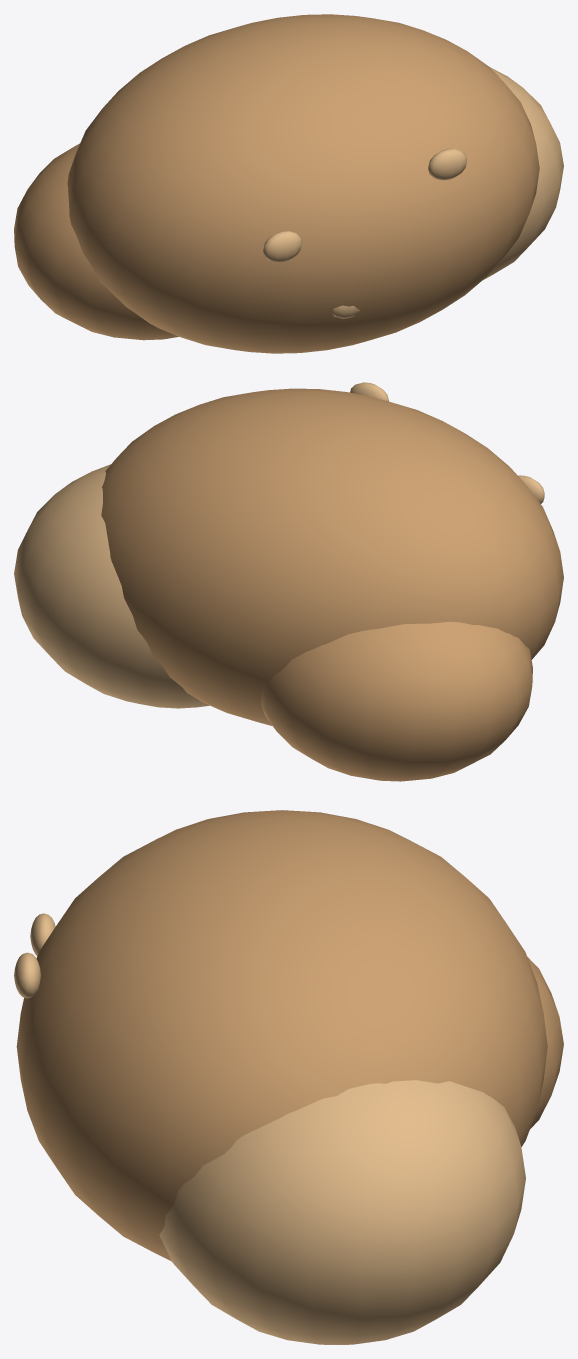
The model's file is potato.glb.
3 views of the same model, one above another, from view 1: azimuth 30°, elevation 25°; view 2: azimuth 150°, elevation 25°; view 3: azimuth 270°, elevation 25° (orthographic). The views are drawn at different scales.
Parts seen in each view (by area): view 1: Potato | main tuber.001, Potato | rear tuber.001, Potato | side tuber.001, Potato | tiny eye.004, Potato | tiny eye.006; view 2: Potato | main tuber.001, Potato | rear tuber.001, Potato | side tuber.001; view 3: Potato | main tuber.001, Potato | side tuber.001, Potato | rear tuber.001, Potato | tiny eye.004, Potato | tiny eye.006.
Part boxes in pixels (left/top/right/bottom): Potato | main tuber.001: left=67, top=14, right=539, bottom=353; Potato | rear tuber.001: left=14, top=143, right=178, bottom=340; Potato | side tuber.001: left=482, top=67, right=563, bottom=280; Potato | tiny eye.004: left=428, top=148, right=466, bottom=180; Potato | tiny eye.006: left=263, top=231, right=301, bottom=262; Potato | main tuber.001: left=101, top=388, right=563, bottom=725; Potato | rear tuber.001: left=261, top=621, right=532, bottom=781; Potato | side tuber.001: left=14, top=464, right=209, bottom=708; Potato | main tuber.001: left=16, top=810, right=547, bottom=1261; Potato | side tuber.001: left=159, top=1080, right=525, bottom=1344; Potato | rear tuber.001: left=527, top=957, right=563, bottom=1128; Potato | tiny eye.004: left=14, top=952, right=40, bottom=998; Potato | tiny eye.006: left=30, top=913, right=55, bottom=955.
Bounding box in the file's own units: 1.41 × 0.78 × 1.02.
